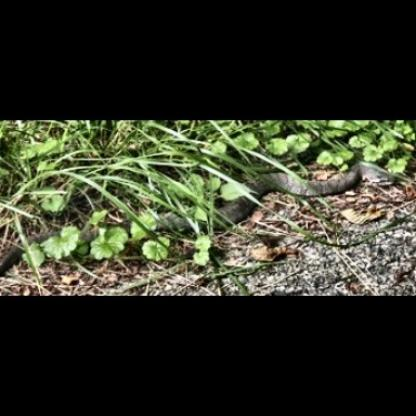Snake: (5, 122, 412, 272)
